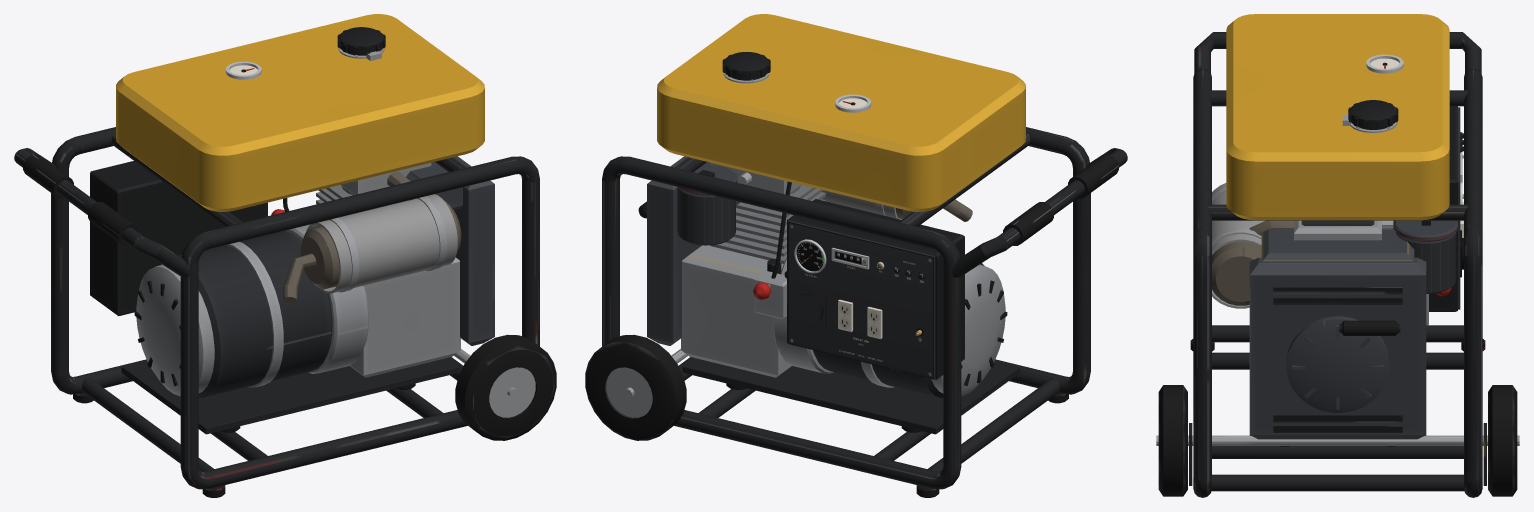
The model's file is item.obj.
The picture shows the model from 3 angles, left to right: view 1: azimuth 30°, elevation 25°; view 2: azimuth 150°, elevation 25°; view 3: azimuth 270°, elevation 25°; orthographic projection. The views are drawn at different scales.
Visible parts, largest first — view 1: tank, frame_loop_b, alternator, control_box, crankcase, cradle_plate, heat_shield, wheel_tyre_-1, frame_loop_f, fan_shroud, end_bell, adaptor_ring (+16 smaller); view 2: tank, frame_loop_f, panel_plate, crankcase, cradle_plate, wheel_tyre_1, frame_loop_b, fan_shroud, end_bell, control_box, air_cleaner, u_handle (+13 smaller); view 3: tank, fan_shroud, frame_loop_f, frame_loop_b, starter_cover, cross_bottom_-0.3, shroud_hood, wheel_tyre_1, wheel_tyre_-1, cross_bottom_-0.17, muffler, axle (+20 smaller).
Boxes of the visible parts, <box> form: tank: <box>116,14,484,211</box>; frame_loop_b: <box>180,156,539,489</box>; alternator: <box>157,231,332,397</box>; control_box: <box>90,161,267,316</box>; crankcase: <box>350,257,460,377</box>; cradle_plate: <box>121,358,459,434</box>; heat_shield: <box>306,194,457,293</box>; wheel_tyre_-1: <box>455,334,556,440</box>; frame_loop_f: <box>51,127,146,394</box>; fan_shroud: <box>454,156,494,345</box>; end_bell: <box>136,264,214,396</box>; adaptor_ring: <box>284,224,368,373</box>; tank: <box>657,14,1025,211</box>; frame_loop_f: <box>602,156,961,489</box>; panel_plate: <box>788,220,935,379</box>; crankcase: <box>681,245,791,377</box>; cradle_plate: <box>682,358,1020,434</box>; wheel_tyre_1: <box>585,334,686,440</box>; frame_loop_b: <box>995,127,1090,394</box>; fan_shroud: <box>647,156,701,345</box>; end_bell: <box>931,264,1005,396</box>; control_box: <box>787,199,964,379</box>; air_cleaner: <box>677,187,735,245</box>; u_handle: <box>943,148,1127,277</box>; tank: <box>1226,14,1449,220</box>; fan_shroud: <box>1249,257,1426,439</box>; frame_loop_f: <box>1464,68,1482,497</box>; frame_loop_b: <box>1193,68,1211,497</box>; starter_cover: <box>1286,316,1389,412</box>; cross_bottom_-0.3: <box>1211,474,1464,491</box>; shroud_hood: <box>1261,229,1414,261</box>; wheel_tyre_1: <box>1488,385,1517,496</box>; wheel_tyre_-1: <box>1158,385,1187,496</box>; cross_bottom_-0.17: <box>1212,446,1463,458</box>; muffler: <box>1212,242,1261,305</box>; axle: <box>1156,435,1519,445</box>.
Bounding box in the file's own units: 0.8295 × 0.674 × 0.618.
